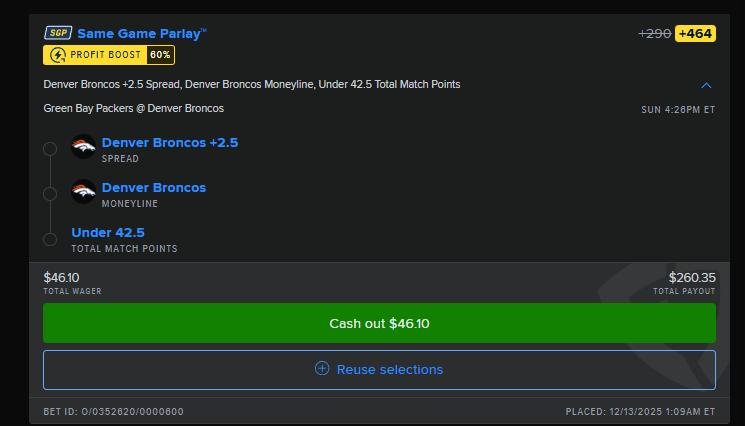game: (41, 101, 226, 118)
odds: (677, 27, 714, 39)
payout: (667, 270, 718, 286)
wager: (43, 267, 81, 287)
